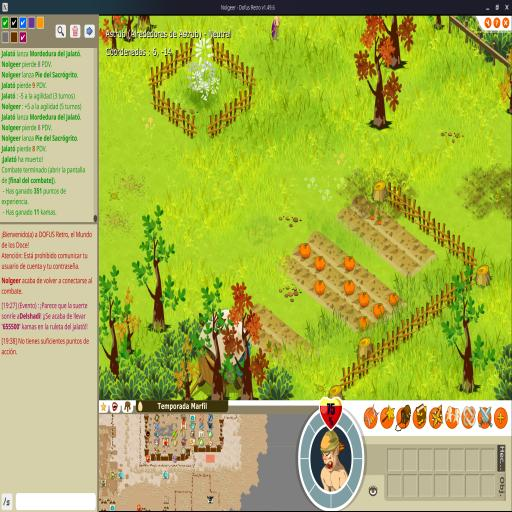Personaje: (272, 16, 280, 43)
